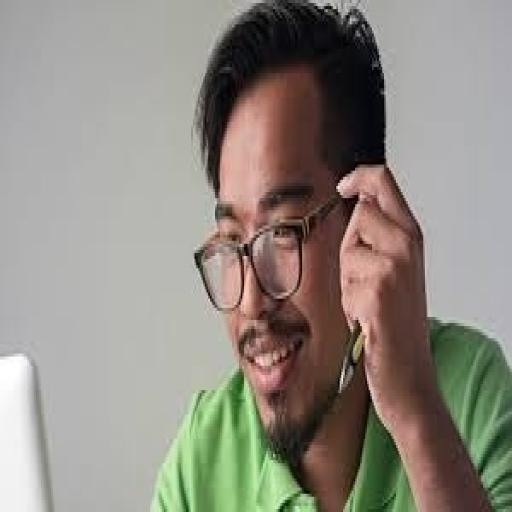listening_to_music: (147, 0, 510, 509)
